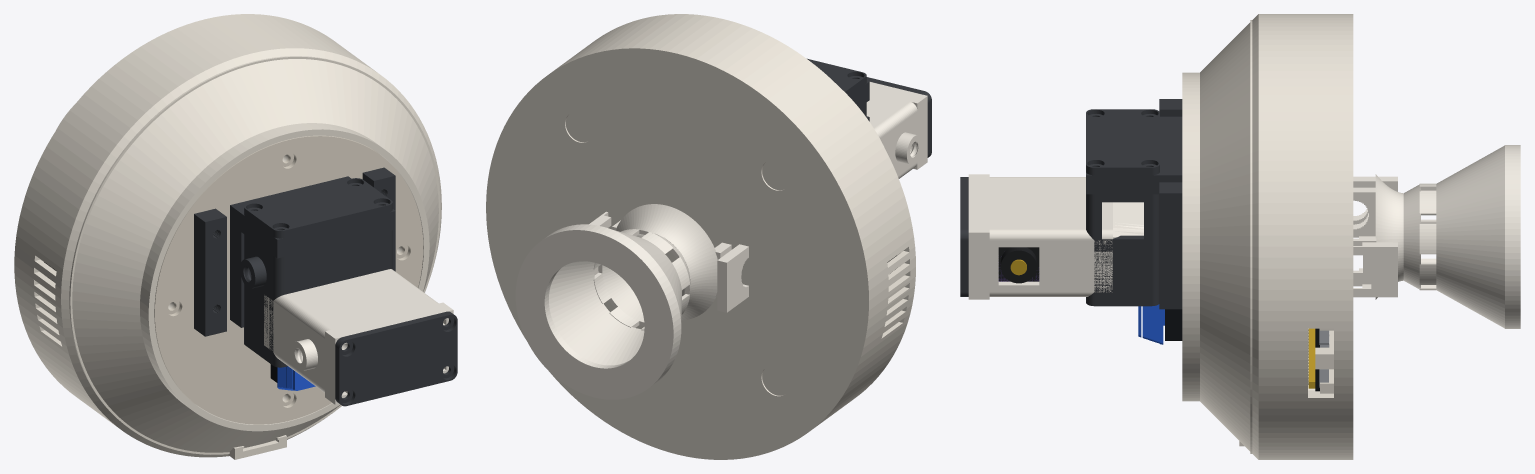
Rendered from aibo-rig.glb.
3 renders of one model, left to right at view 1: azimuth 30°, elevation 25°; view 2: azimuth 150°, elevation 25°; view 3: azimuth 270°, elevation 25°, orthographic.
Parts seen in each view (by area): view 1: shoulder, base, lid, base-joint, arm-lower, cap-shoulder, cap-base, keycap; view 2: base, shade, arm-lower, cap-base, cap-shoulder; view 3: base, shoulder, shade, arm-lower, base-joint, cap-base, cap-shoulder, mg996r-boss-shoulder, keycap, mx-upper.
Boxes of the visible parts, x1=… form: shoulder: x1=61, y1=48, x2=441, y2=457; base: x1=14, y1=14, x2=375, y2=459; lid: x1=154, y1=135, x2=423, y2=424; base-joint: x1=194, y1=167, x2=395, y2=367; arm-lower: x1=264, y1=269, x2=453, y2=404; cap-shoulder: x1=335, y1=311, x2=457, y2=406; cap-base: x1=244, y1=178, x2=392, y2=238; keycap: x1=277, y1=366, x2=315, y2=390; base: x1=486, y1=14, x2=915, y2=459; shade: x1=515, y1=204, x2=731, y2=399; arm-lower: x1=589, y1=82, x2=927, y2=312; cap-base: x1=807, y1=58, x2=866, y2=96; cap-shoulder: x1=866, y1=77, x2=931, y2=157; base: x1=1239, y1=14, x2=1353, y2=459; shoulder: x1=1182, y1=14, x2=1258, y2=459; shade: x1=1353, y1=145, x2=1520, y2=328; arm-lower: x1=968, y1=174, x2=1397, y2=299; base-joint: x1=1086, y1=99, x2=1182, y2=309; cap-base: x1=1086, y1=109, x2=1159, y2=175; cap-shoulder: x1=960, y1=177, x2=968, y2=296; mg996r-boss-shoulder: x1=1000, y1=247, x2=1036, y2=283; keycap: x1=1138, y1=304, x2=1163, y2=344; mx-upper: x1=1165, y1=309, x2=1182, y2=340.
Bounding box in the file's own units: 160 × 160 × 201.
